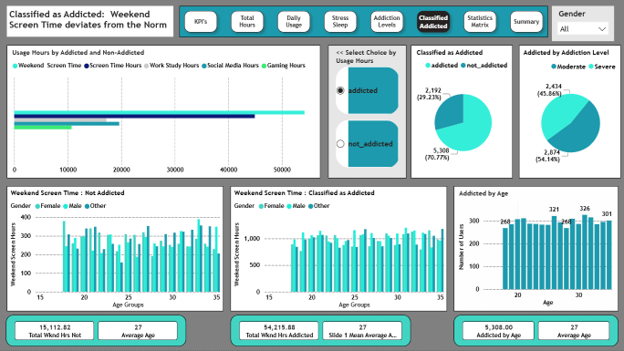

The page's visual inventory and layout, read from the dashboard file:
{"tool":"powerbi","page":{"name":"Classified Addicted","canvas":[1280,720],"ordinal":5},"visuals":[{"type":"pageNavigator","box":[368,16,752,64],"z":0},{"type":"pieChart","title":"Classified as Addicted","fields":{"Category":["Smartphone_Project.new_addicted_label"],"Y":["Smartphone_Project.Count new Addicted Lable comma after"]},"box":[840,96,208,272],"z":1000},{"type":"pieChart","title":"Addicted by Addiction Level","fields":{"Category":["Smartphone_Project.Addiction_level"],"Y":["Smartphone_Project.new addicted lable yes"]},"box":[1061,96,208,272],"z":2000},{"type":"slicer","fields":{"Values":["Smartphone_Project.Gender"]},"box":[1128,16,127,72],"z":3000},{"type":"textbox","box":[16,16,340,63],"z":4000},{"type":"clusteredColumnChart","title":"Weekend Screen Time : Classified as Addicted","fields":{"Series":["Smartphone_Project.Gender"],"Category":["Smartphone_Project.Age"],"Y":["Smartphone_Project.new addicted lable yes_wknd scn time"]},"box":[472,384,442,256],"z":5000},{"type":"cardVisual","fields":{"Data":["Smartphone_Project.Slide 5 Total Weekend Screen Time Hrs","Smartphone_Project.Average Age"]},"box":[472,647,368,64],"z":6000},{"type":"clusteredColumnChart","title":"Weekend Screen Time : Not Addicted","fields":{"Series":["Smartphone_Project.Gender"],"Category":["Smartphone_Project.Age"],"Y":["Smartphone_Project.new addicted lable No_sum wknd scn time"]},"box":[16,384,442,256],"z":7000},{"type":"cardVisual","fields":{"Data":["Smartphone_Project.Slide 5 Total Weekend Screen Time Hrs - Not_addicted","Smartphone_Project.Average Age"]},"box":[14,647,368,64],"z":8000},{"type":"clusteredColumnChart","title":"Addicted by Age","fields":{"Category":["Smartphone_Project.Age"],"Y":["Smartphone_Project.new addicted lable yes"]},"box":[928,384,336,256],"z":9000},{"type":"clusteredBarChart","title":"Usage Hours by Addicted and Non-Addicted","fields":{"Y":["Sum(Smartphone_Project.Weekend_screen_time)","Sum(Smartphone_Project.Screen_time_hours)","Sum(Smartphone_Project.Work_study_hours)","Sum(Smartphone_Project.Social_media_hours)","Sum(Smartphone_Project.Gaming_hours)"]},"box":[16,96,640,272],"z":10000},{"type":"listSlicer","title":"<< Select Choice by Usage Hours","fields":{"Values":["Smartphone_Project.new_addicted_label"]},"box":[672,96,160,272],"z":11000},{"type":"cardVisual","fields":{"Data":["Smartphone_Project.Slide 6 Addicted by Age","Smartphone_Project.Average Age"]},"box":[928,647,336,64],"z":12000}]}

Visuals, with their boxes in screenshot pixels (x1, y1, x2, y2), scaled from the page's 1280x720 canvas onto the 624x351 screenshot:
pageNavigator: Rect(179, 8, 546, 39)
"Classified as Addicted" pieChart: Rect(410, 47, 511, 179)
"Addicted by Addiction Level" pieChart: Rect(517, 47, 619, 179)
slicer - Smartphone_Project.Gender: Rect(550, 8, 612, 43)
textbox: Rect(8, 8, 174, 39)
"Weekend Screen Time : Classified as Addicted" clusteredColumnChart: Rect(230, 187, 446, 312)
cardVisual - Smartphone_Project.Slide 5 Total Weekend Screen Time Hrs x Smartphone_Project.Average Age: Rect(230, 315, 410, 347)
"Weekend Screen Time : Not Addicted" clusteredColumnChart: Rect(8, 187, 223, 312)
cardVisual - Smartphone_Project.Slide 5 Total Weekend Screen Time Hrs - Not_addicted x Smartphone_Project.Average Age: Rect(7, 315, 186, 347)
"Addicted by Age" clusteredColumnChart: Rect(452, 187, 616, 312)
"Usage Hours by Addicted and Non-Addicted" clusteredBarChart: Rect(8, 47, 320, 179)
"<< Select Choice by Usage Hours" listSlicer: Rect(328, 47, 406, 179)
cardVisual - Smartphone_Project.Slide 6 Addicted by Age x Smartphone_Project.Average Age: Rect(452, 315, 616, 347)
